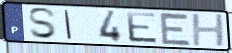4: (97, 9, 123, 44)
E: (158, 11, 193, 47), (124, 11, 160, 45)
H: (190, 13, 227, 48)
I: (63, 9, 74, 41)
S: (27, 7, 59, 40)
